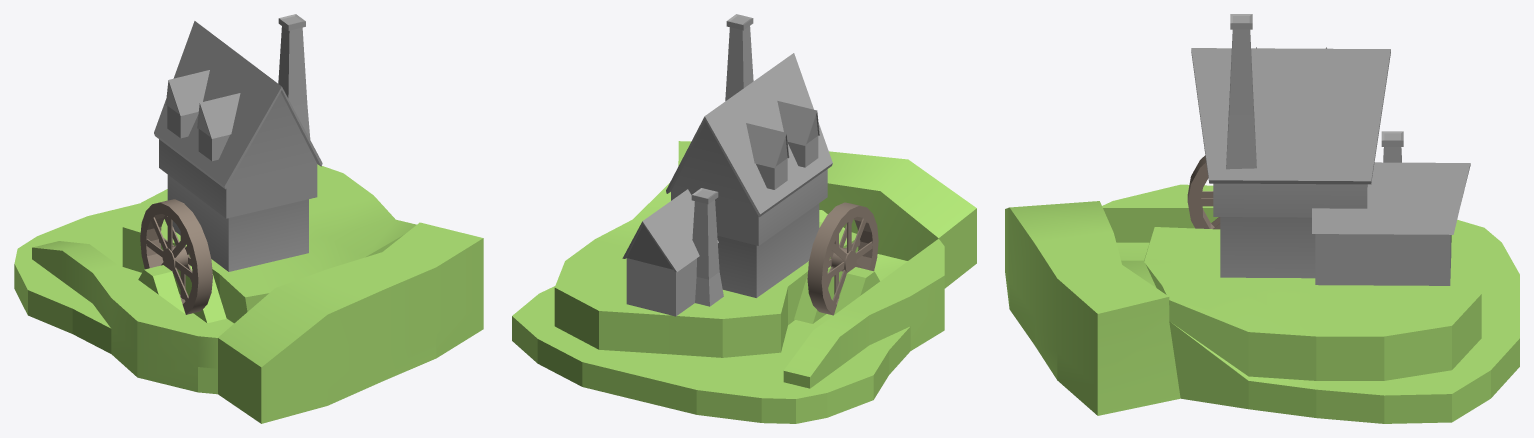
File: watermill.fbx
3 renders of one model, left to right at view 1: azimuth 30°, elevation 25°; view 2: azimuth 150°, elevation 25°; view 3: azimuth 270°, elevation 25°, orthographic. The views are drawn at different scales.
Parts seen in each view (by area): view 1: hill2, farmhouse4, wheel; view 2: hill2, farmhouse4, wheel; view 3: hill2, farmhouse4, wheel.
Part boxes in pixels (x1,y1,x2,y2): hill2: (14,164,483,423); farmhouse4: (154,14,322,271); wheel: (140,199,212,314); hill2: (512,141,976,423); farmhouse4: (622,14,832,316); wheel: (807,202,878,315); hill2: (1005,184,1519,423); farmhouse4: (1191,14,1470,285); wheel: (1187,155,1220,229).
Size of the model in its own units: 15.8 by 12.95 by 18.42.
